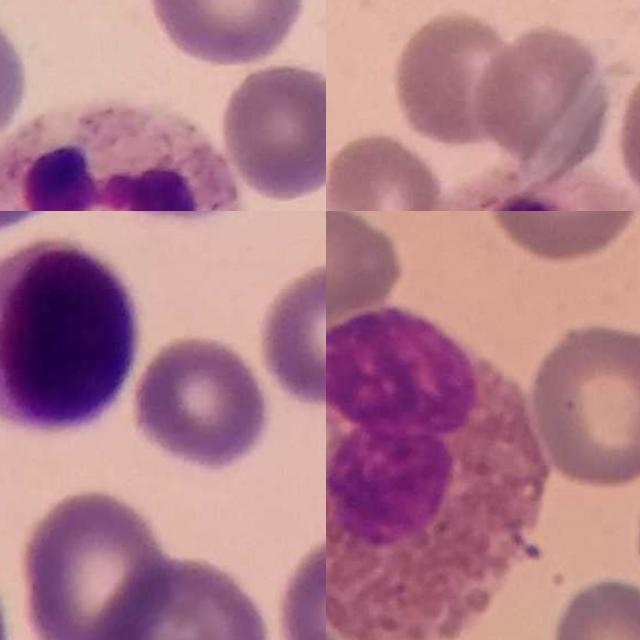Eosinophil: (326, 309, 549, 640)
Lymphocyte: (0, 240, 137, 430)
Neutrophil: (0, 103, 247, 211)
